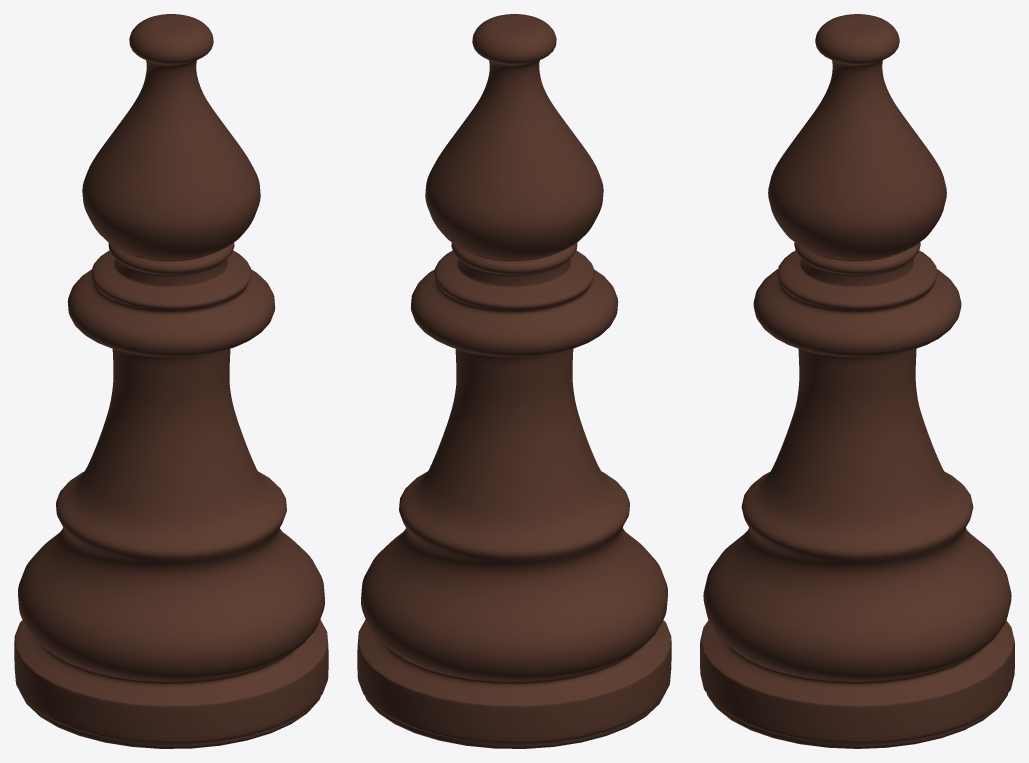
The model's file is Alfil.fbx.
3 renders of one model, left to right at view 1: azimuth 30°, elevation 25°; view 2: azimuth 150°, elevation 25°; view 3: azimuth 270°, elevation 25°, orthographic.
Visible parts, largest first — view 1: Alfil.003; view 2: Alfil.003; view 3: Alfil.003.
Part boxes in pixels (x1,y1,x2,y2): Alfil.003: (14, 14, 328, 748); Alfil.003: (357, 14, 671, 748); Alfil.003: (700, 14, 1014, 748).
Size of the model in its own units: 67.3 by 157 by 67.3.
